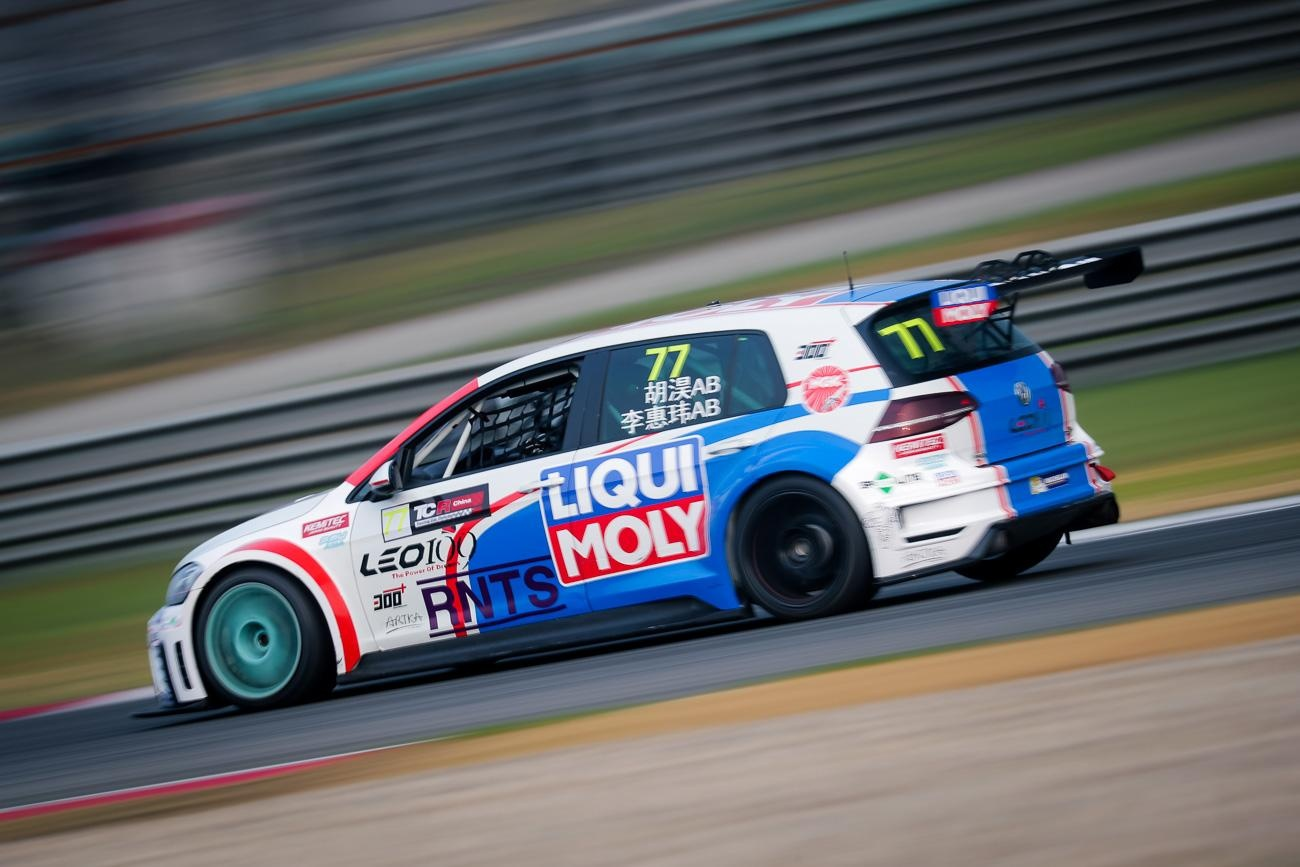racing car: (147, 285, 1188, 681)
